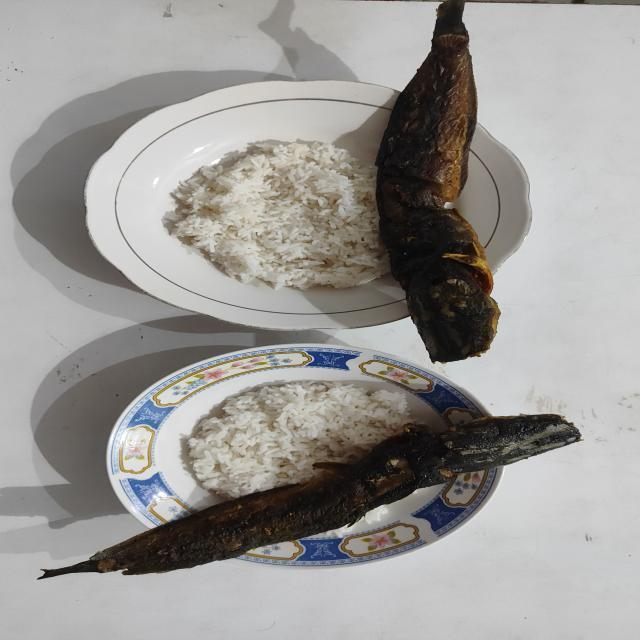nasi_putih: (162, 140, 388, 290), (187, 381, 417, 498)
